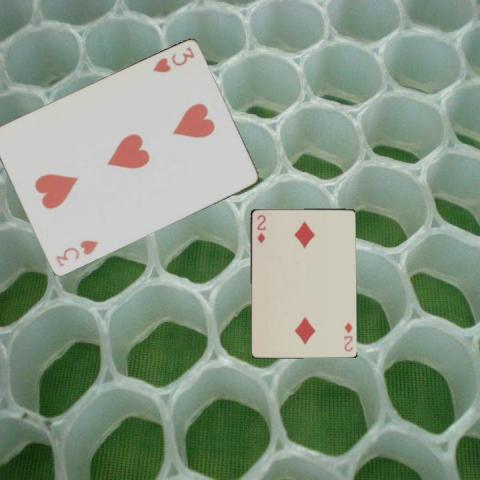2d: (341, 319, 354, 353), (254, 212, 267, 245)
3h: (53, 237, 100, 269), (150, 44, 196, 75)
